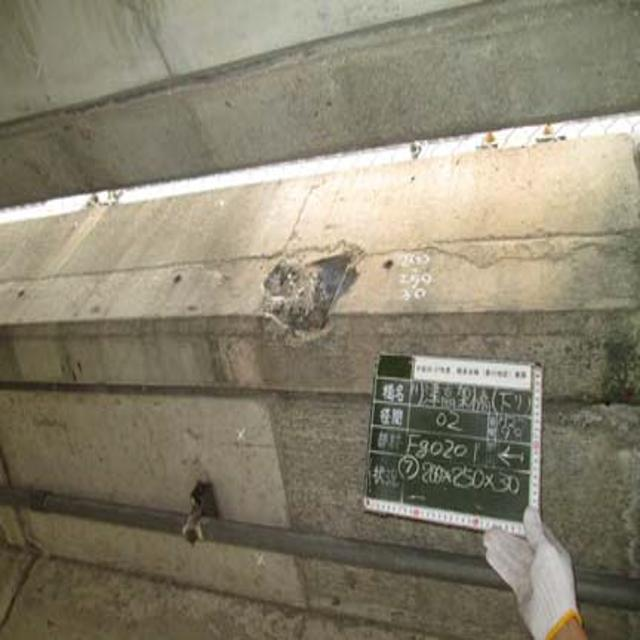spalling: (243, 241, 361, 340)
